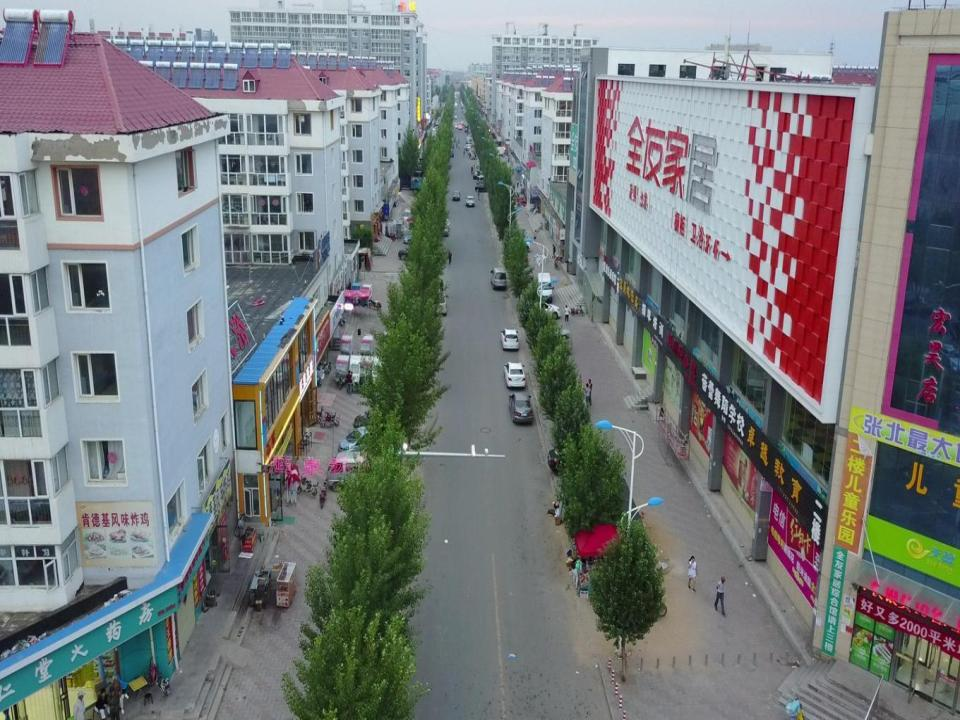car: (547, 438, 609, 474), (338, 426, 394, 456), (354, 409, 394, 430), (509, 392, 534, 424), (503, 361, 526, 388), (532, 302, 561, 319), (398, 246, 426, 261), (500, 327, 519, 349), (432, 292, 448, 315), (404, 230, 429, 244), (510, 238, 532, 251), (474, 183, 490, 192), (465, 195, 475, 207), (440, 218, 450, 230), (440, 225, 449, 237), (452, 191, 461, 201), (472, 169, 481, 179)
van: (326, 451, 390, 491), (536, 272, 554, 302), (490, 266, 507, 289), (476, 175, 492, 185), (403, 207, 412, 224)
